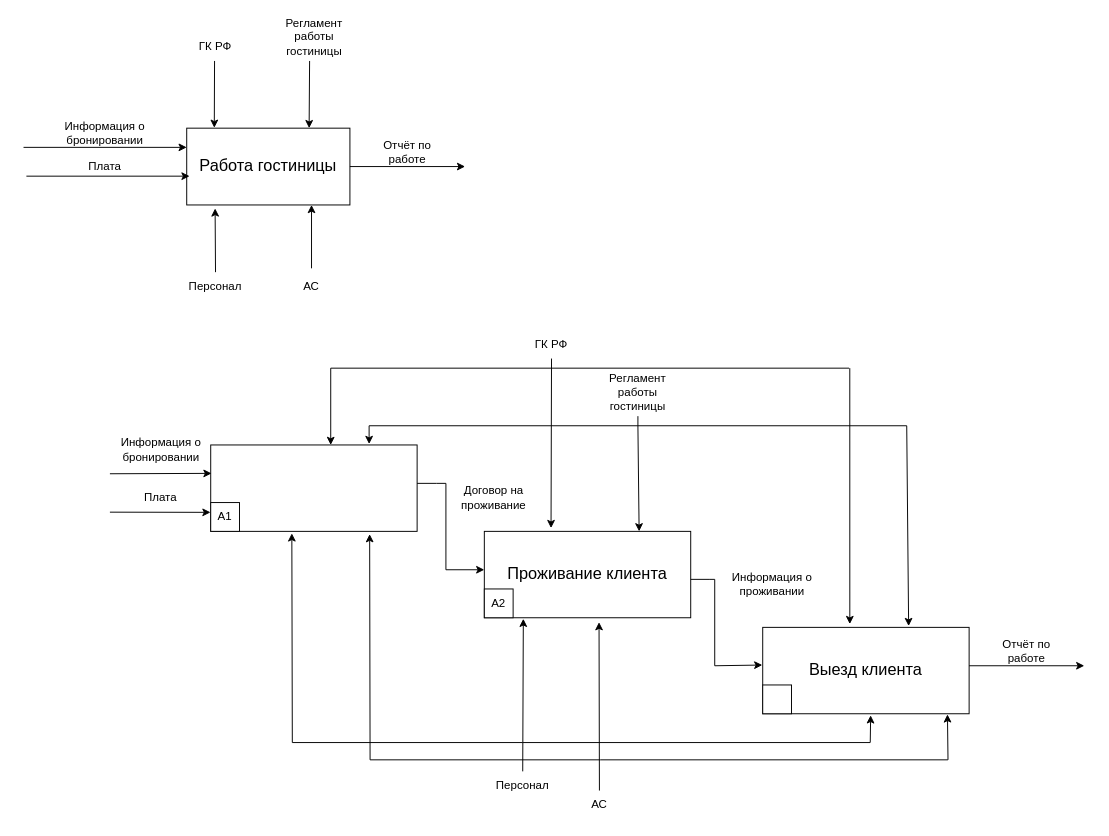
Some shapes in this 1109 by 836 pixel diagram are drawn without their labels. The shapes that lost their labels are listed below. From the top down, each one's box as (x1, y1, x2, y2) in pixels, then its label:
(210, 444, 417, 531): Регистрация клиента
(762, 684, 792, 714): А3
